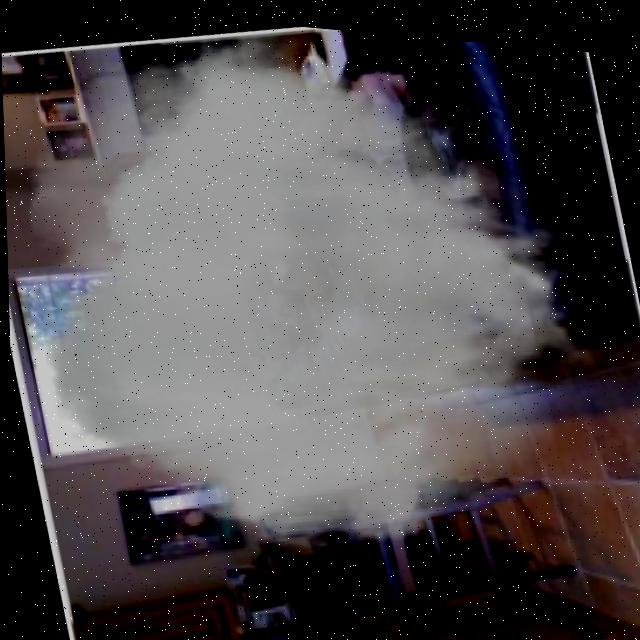Smoke: (1, 22, 639, 573)
